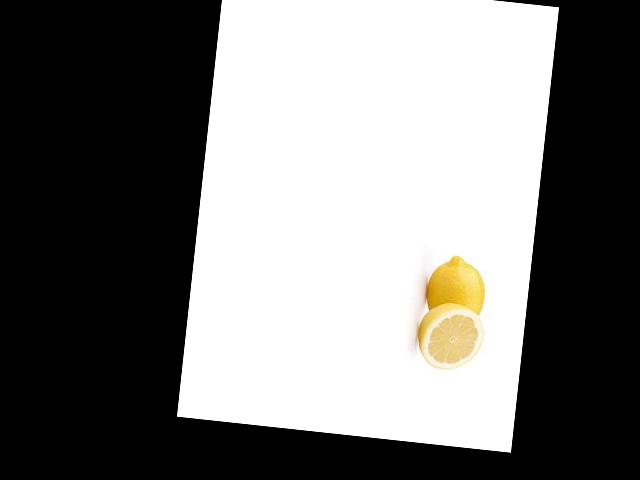lemon: (417, 248, 491, 327)
